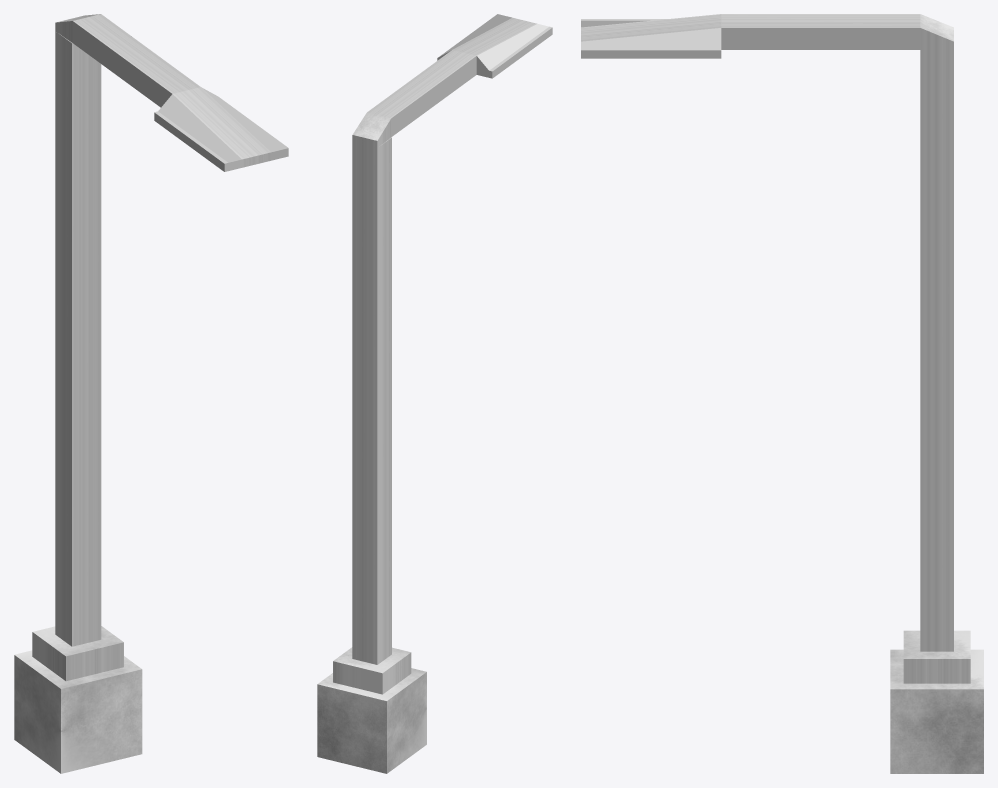
The model's file is Street_Light.obj.
3 views of the same model, side by side, from view 1: azimuth 30°, elevation 25°; view 2: azimuth 150°, elevation 25°; view 3: azimuth 270°, elevation 25° (orthographic). The views are drawn at different scales.
Parts seen in each view (by area): view 1: Cube; view 2: Cube; view 3: Cube.
Part boxes in pixels (<box>): Cube: <box>14,14,288,773</box>; Cube: <box>317,14,552,773</box>; Cube: <box>581,14,983,773</box>.
Size of the model in its own units: 2 by 17.32 by 8.62.
